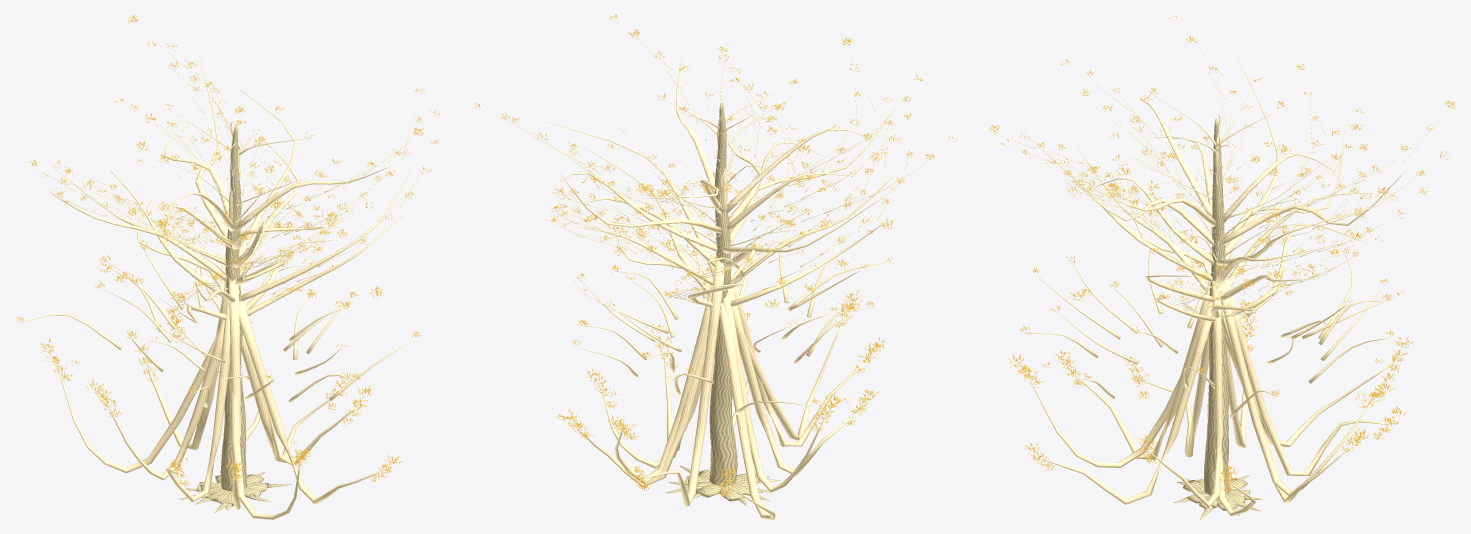
Rendered from world_tree.glb.
3 renders of one model, left to right at view 1: azimuth 30°, elevation 25°; view 2: azimuth 150°, elevation 25°; view 3: azimuth 270°, elevation 25°, orthographic. The views are drawn at different scales.
Parts seen in each view (by area): view 1: WorldTree_Branches, WorldTree_Leaves, WorldTree_Bark, WorldTree_LuminousVeins; view 2: WorldTree_Branches, WorldTree_Leaves, WorldTree_Bark, WorldTree_LuminousVeins; view 3: WorldTree_Branches, WorldTree_Leaves, WorldTree_Bark, WorldTree_LuminousVeins.
Boxes of the visible parts, x1=… form: WorldTree_Branches: x1=20, y1=24, x2=433, y2=519; WorldTree_Leaves: x1=15, y1=14, x2=439, y2=487; WorldTree_Bark: x1=178, y1=125, x2=291, y2=512; WorldTree_LuminousVeins: x1=85, y1=64, x2=412, y2=289; WorldTree_Branches: x1=479, y1=18, x2=951, y2=519; WorldTree_Leaves: x1=472, y1=14, x2=958, y2=498; WorldTree_Bark: x1=666, y1=103, x2=780, y2=506; WorldTree_LuminousVeins: x1=561, y1=22, x2=895, y2=293; WorldTree_Branches: x1=999, y1=20, x2=1449, y2=516; WorldTree_Leaves: x1=988, y1=14, x2=1455, y2=493; WorldTree_Bark: x1=1174, y1=119, x2=1264, y2=519; WorldTree_LuminousVeins: x1=1023, y1=44, x2=1415, y2=315.
Size of the model in its own units: 279 by 254 by 260.
Materials: 4 (3 with a texture image).
